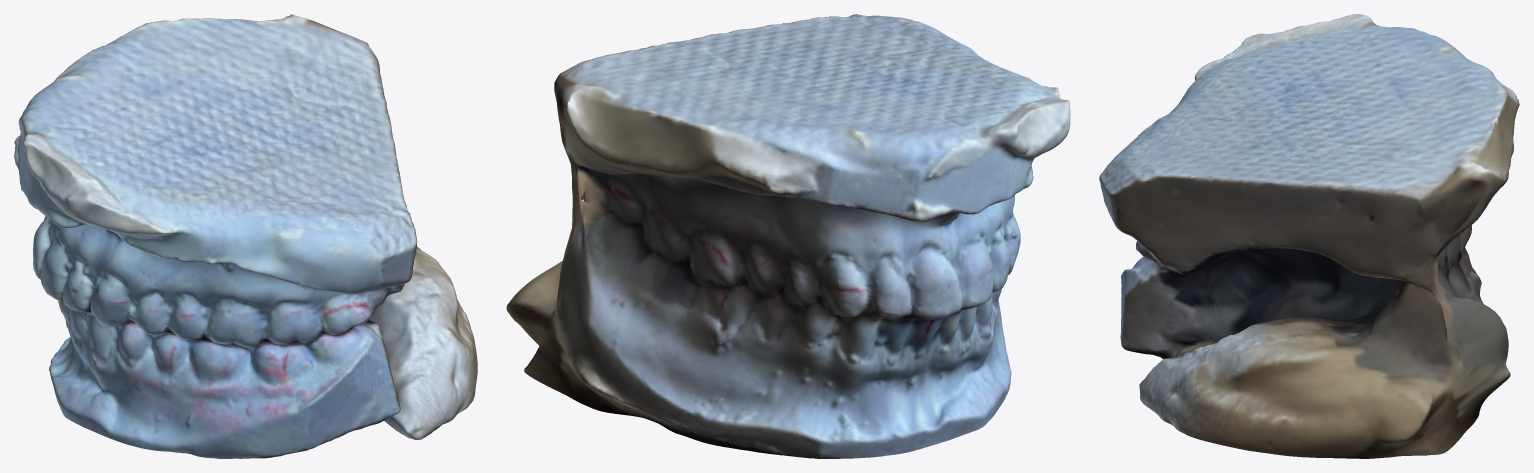
Rendered from myer_teeth.glb.
3 renders of one model, left to right at view 1: azimuth 30°, elevation 25°; view 2: azimuth 150°, elevation 25°; view 3: azimuth 270°, elevation 25°, orthographic. The views are drawn at different scales.
Visible parts, largest first — view 1: 3DModel; view 2: 3DModel; view 3: 3DModel.
Boxes of the visible parts, x1,y1,x2,y2 form: 3DModel: (14,14,477,458); 3DModel: (506,14,1070,458); 3DModel: (1099,14,1519,458).
Bounding box in the file's own units: 0.467 × 0.3017 × 0.4236.
1 material, 1 textured.
